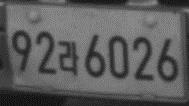0: (108, 35, 129, 79)
2: (35, 29, 57, 75), (132, 36, 154, 80)
6: (157, 38, 179, 82), (84, 34, 106, 77)
9: (11, 29, 32, 73)
라: (58, 39, 79, 76)
